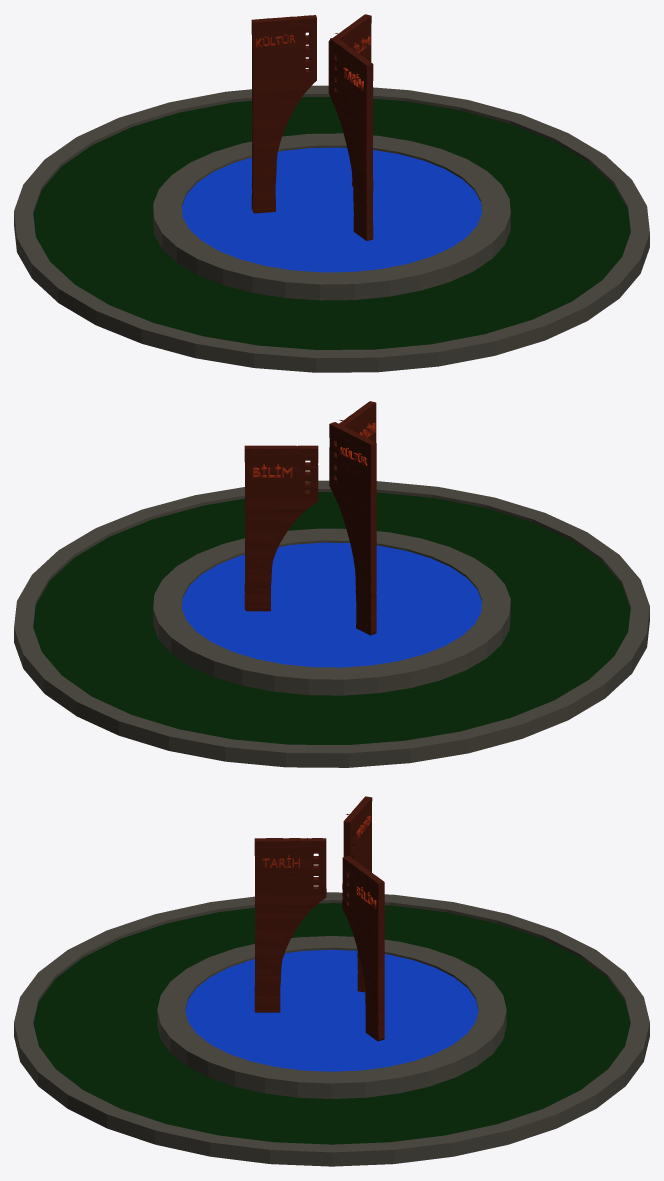
File: ANIT.obj
3 renders of one model, top to bottom at view 1: azimuth 30°, elevation 25°; view 2: azimuth 150°, elevation 25°; view 3: azimuth 270°, elevation 25°, orthographic. The views are drawn at different scales.
Visible parts, largest first — view 1: Cylinder.002, Cylinder.003, Cylinder, Cylinder.001, mesh_0.001, mesh_0, mesh_0.002; view 2: Cylinder.002, Cylinder.003, Cylinder, Cylinder.001, mesh_0.002, mesh_0.001, mesh_0; view 3: Cylinder.002, Cylinder.003, Cylinder, Cylinder.001, mesh_0, mesh_0.002, mesh_0.001.
Part boxes in pixels (x1=…): Cylinder.002: x1=33, y1=97, x2=630, y2=349; Cylinder.003: x1=14, y1=85, x2=649, y2=372; Cylinder: x1=182, y1=147, x2=481, y2=272; Cylinder.001: x1=153, y1=133, x2=510, y2=300; mesh_0.001: x1=251, y1=15, x2=316, y2=213; mesh_0: x1=330, y1=37, x2=373, y2=240; mesh_0.002: x1=328, y1=14, x2=371, y2=186; Cylinder.002: x1=33, y1=492, x2=630, y2=744; Cylinder.003: x1=14, y1=480, x2=649, y2=767; Cylinder: x1=182, y1=542, x2=481, y2=667; Cylinder.001: x1=153, y1=528, x2=510, y2=695; mesh_0.002: x1=244, y1=445, x2=318, y2=611; mesh_0.001: x1=329, y1=422, x2=376, y2=635; mesh_0: x1=339, y1=401, x2=376, y2=442; Cylinder.002: x1=33, y1=903, x2=630, y2=1144; Cylinder.003: x1=14, y1=892, x2=649, y2=1166; Cylinder: x1=185, y1=949, x2=478, y2=1071; Cylinder.001: x1=157, y1=936, x2=506, y2=1098; mesh_0: x1=254, y1=838, x2=326, y2=1012; mesh_0.002: x1=342, y1=856, x2=384, y2=1041; mesh_0.001: x1=343, y1=796, x2=372, y2=992.
Size of the model in its own units: 6.09 by 2.31 by 6.29.
